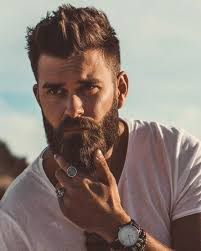b.y: (59, 118, 101, 170)
